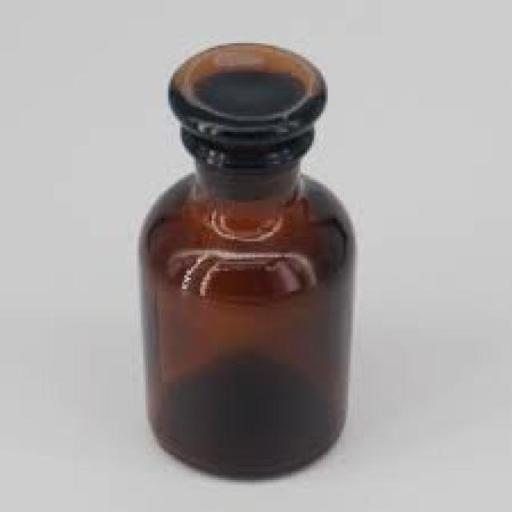glass: (108, 32, 376, 491)
